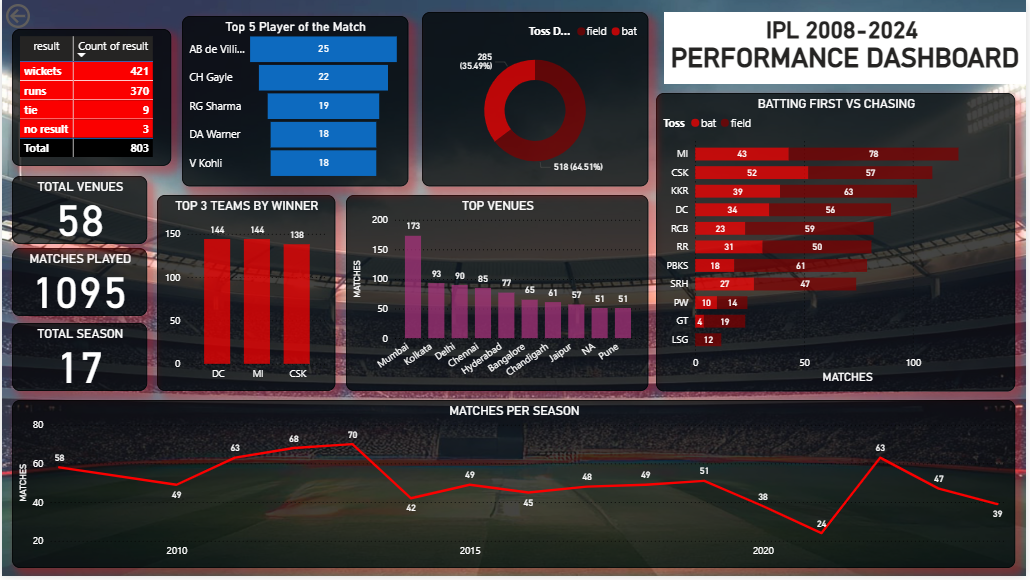

Layout of this report page (visuals, bound fields, positions):
{"tool":"powerbi","page":{"name":"Page 1","canvas":[1280,720],"ordinal":0},"visuals":[{"type":"card","title":"MATCHES PLAYED","fields":{"Values":["matches_2008-2024.id"]},"box":[12.5,310,168.8,85],"z":0},{"type":"columnChart","title":"TOP 3 TEAMS BY WINNER","fields":{"Category":["matches_2008-2024.winner"],"Y":["matches_2008-2024.id"]},"box":[193.8,243.8,222.5,245],"z":1000},{"type":"card","title":"TOTAL SEASON","fields":{"Values":["matches_2008-2024.season"]},"box":[12.5,403.8,168.8,85],"z":2000},{"type":"columnChart","title":"TOP VENUES","fields":{"Y":["matches_2008-2024.id"],"Category":["matches_2008-2024.city"]},"box":[430,243.8,377.5,245],"z":3000},{"type":"barChart","title":"BATTING FIRST VS CHASING","fields":{"Category":["matches_2008-2024.winner"],"Y":["matches_2008-2024.winner"],"Series":["matches_2008-2024.toss_decision"]},"box":[817.5,116.2,448.8,372.5],"z":4000},{"type":"lineChart","title":"MATCHES PER SEASON","fields":{"Category":["matches_2008-2024.season"],"Y":["matches_2008-2024.id"]},"box":[12.5,500,1253.8,210],"z":5000},{"type":"card","title":"TOTAL VENUES","fields":{"Values":["matches_2008-2024.venue"]},"box":[12.5,220,168.8,85],"z":6000},{"type":"tableEx","title":"TOP VENUES","fields":{"Values":["matches_2008-2024.result","matches_2008-2024.result"]},"box":[12.5,36.2,198.8,171.2],"z":7000},{"type":"actionButton","box":[0,0,100,40],"z":8000},{"type":"donutChart","title":"TOP VENUES","fields":{"Category":["matches_2008-2024.toss_decision"],"Y":["matches_2008-2024.id"]},"box":[525,15,282.5,217.5],"z":9000},{"type":"funnel","title":"Top 5 Player of the Match","fields":{"Y":["matches_2008-2024.id"],"Category":["matches_2008-2024.player_of_match"]},"box":[225,20,282.5,212.5],"z":10000},{"type":"textbox","box":[827.5,15,452.5,90],"z":11000}]}

Visuals, with their boxes in screenshot pixels (x1, y1, x2, y2), scaled from the page's 1280x720 canvas onto the 1030x580 screenshot:
"MATCHES PLAYED" card: rect(10, 250, 146, 318)
"TOP 3 TEAMS BY WINNER" columnChart: rect(156, 196, 335, 394)
"TOTAL SEASON" card: rect(10, 325, 146, 394)
"TOP VENUES" columnChart: rect(346, 196, 650, 394)
"BATTING FIRST VS CHASING" barChart: rect(658, 94, 1019, 394)
"MATCHES PER SEASON" lineChart: rect(10, 403, 1019, 572)
"TOTAL VENUES" card: rect(10, 177, 146, 246)
"TOP VENUES" tableEx: rect(10, 29, 170, 167)
actionButton: rect(0, 0, 80, 32)
"TOP VENUES" donutChart: rect(422, 12, 650, 187)
"Top 5 Player of the Match" funnel: rect(181, 16, 408, 187)
textbox: rect(666, 12, 1029, 85)
